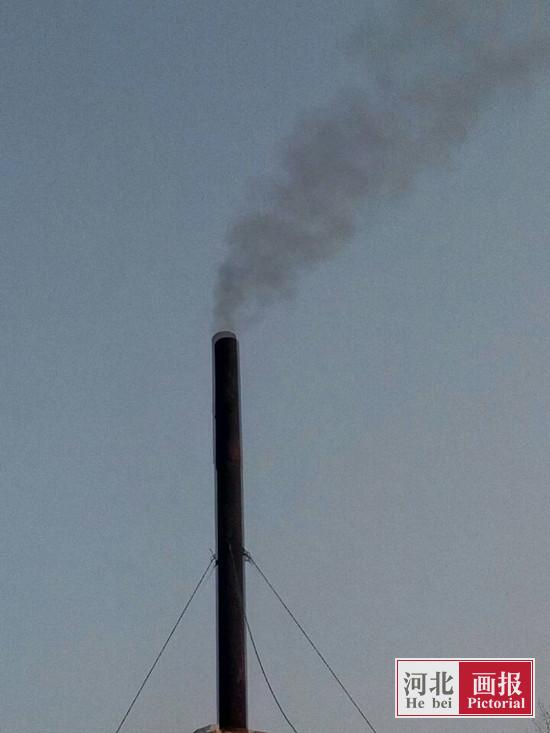dust: (189, 103, 350, 349)
